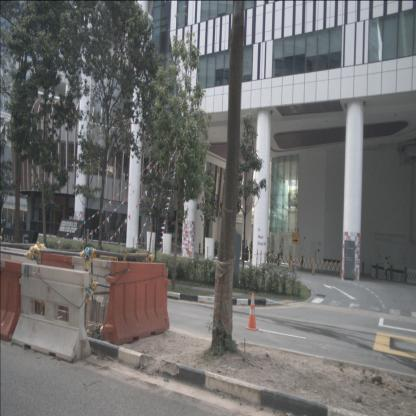barrier: (11, 263, 92, 363), (101, 263, 171, 345), (72, 256, 113, 318), (37, 252, 76, 314), (0, 258, 25, 342)
cone: (246, 292, 258, 332)
